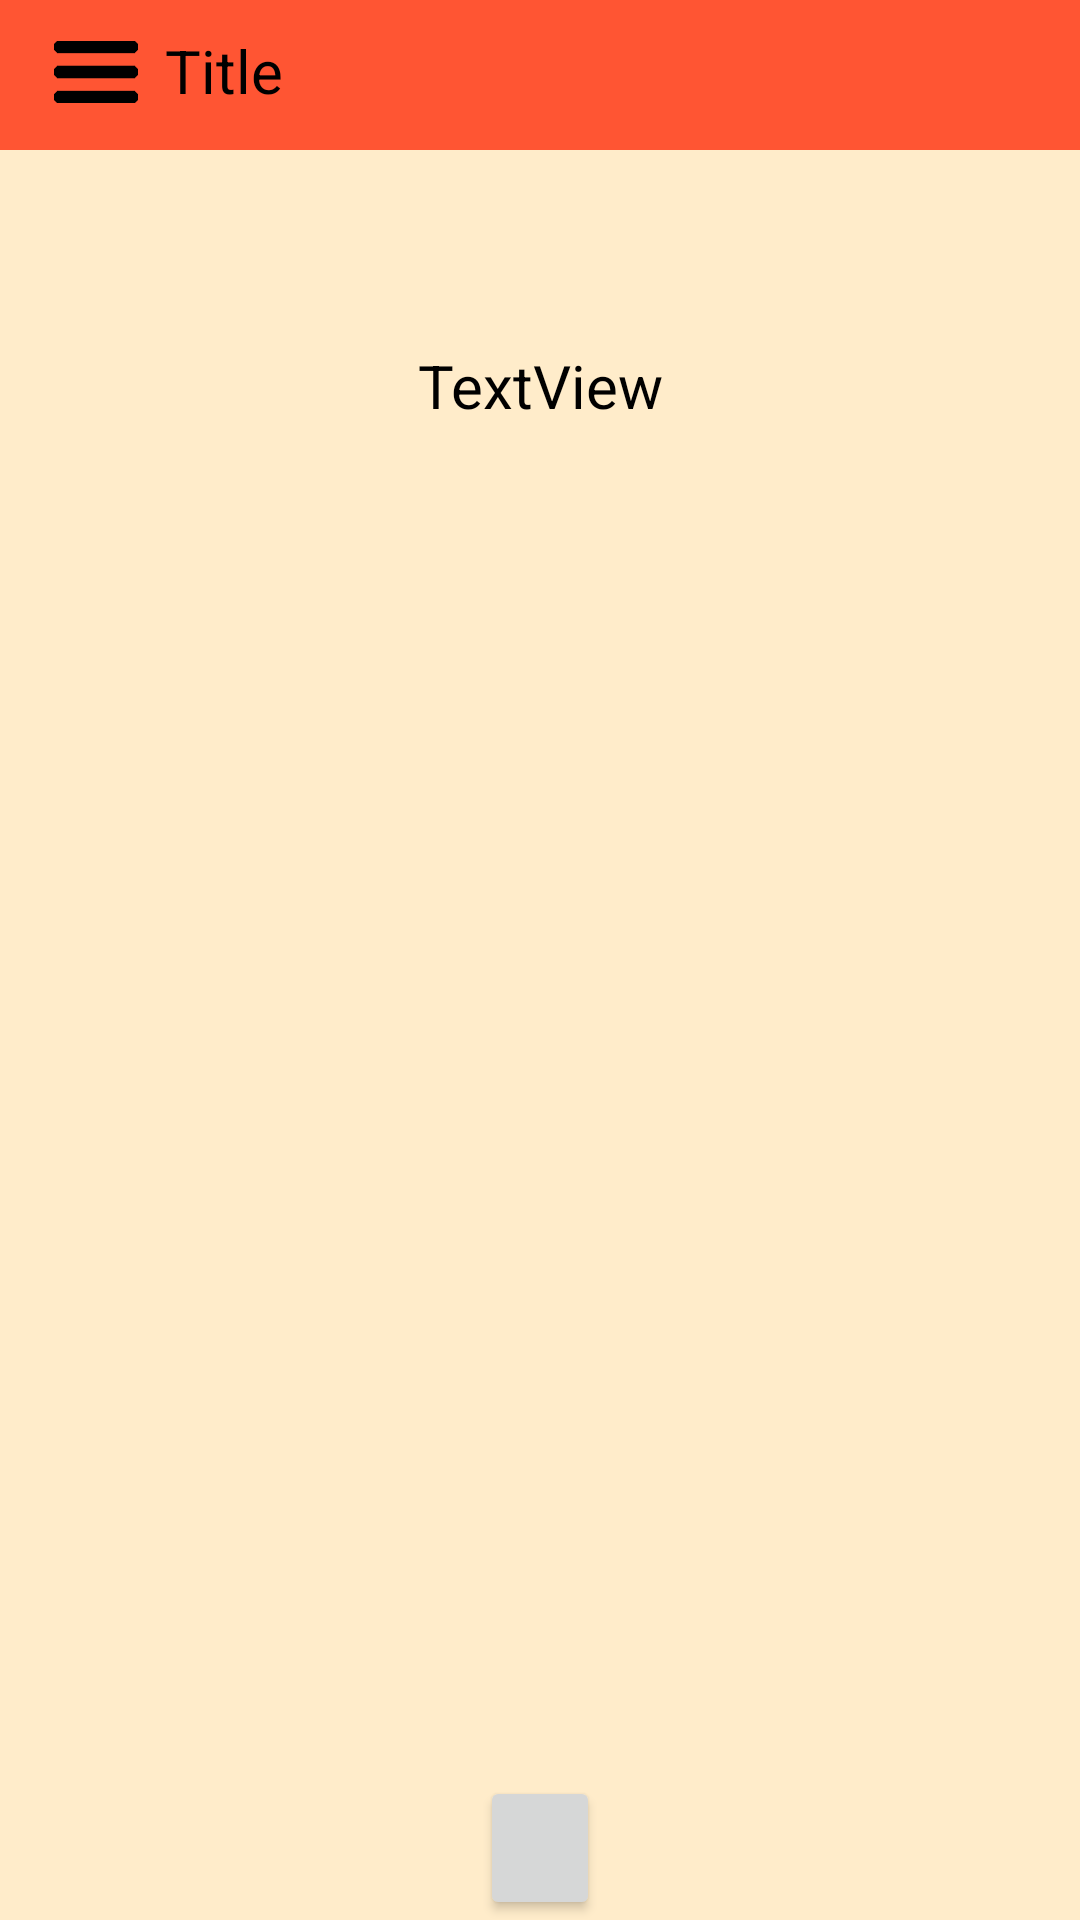

Named icons in this screenshot (1080x1920) and their centers, (x,y):
open list: (96,72)
